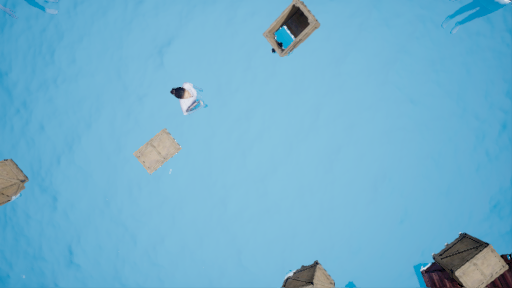person: (168, 85, 208, 118)
